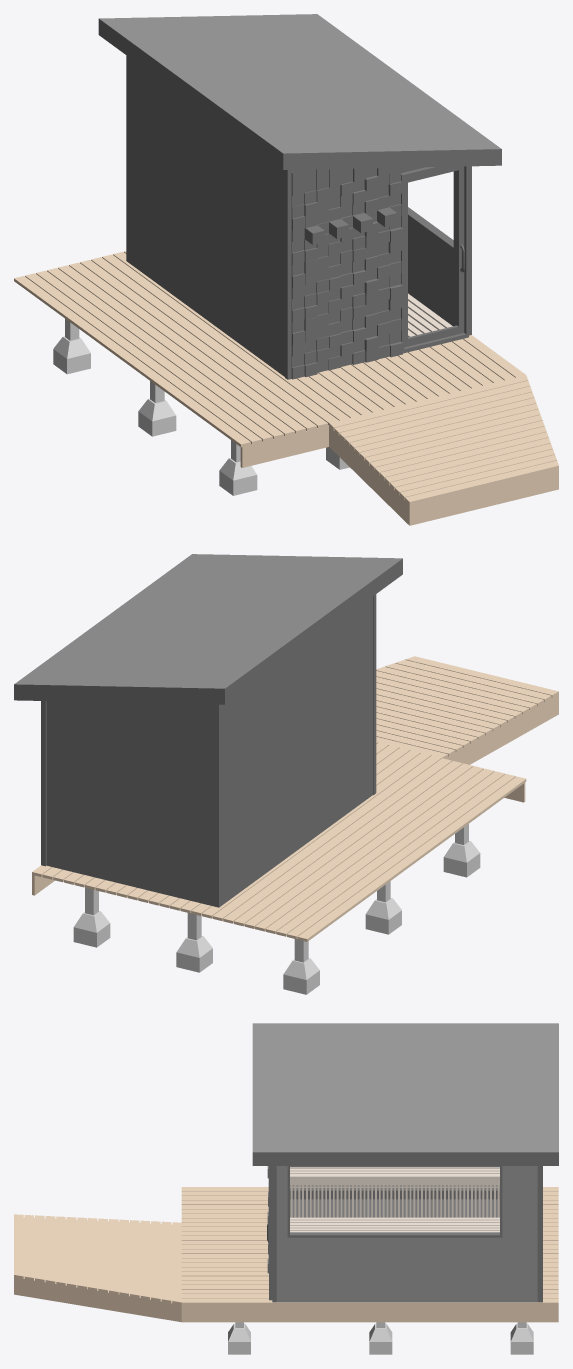
File: asset.glb
The picture shows the model from 3 angles, top to bottom: view 1: azimuth 30°, elevation 25°; view 2: azimuth 150°, elevation 25°; view 3: azimuth 270°, elevation 25°; orthographic projection. The views are drawn at different scales.
Visible parts, largest first — view 1: obj.002; view 2: obj.002; view 3: obj.002.
Boxes of the visible parts, bbox=[...] form: obj.002: bbox=[14, 14, 558, 525]; obj.002: bbox=[14, 554, 558, 994]; obj.002: bbox=[14, 1023, 558, 1354].
Size of the model in its own units: 9.93 by 9.87 by 18.61.
